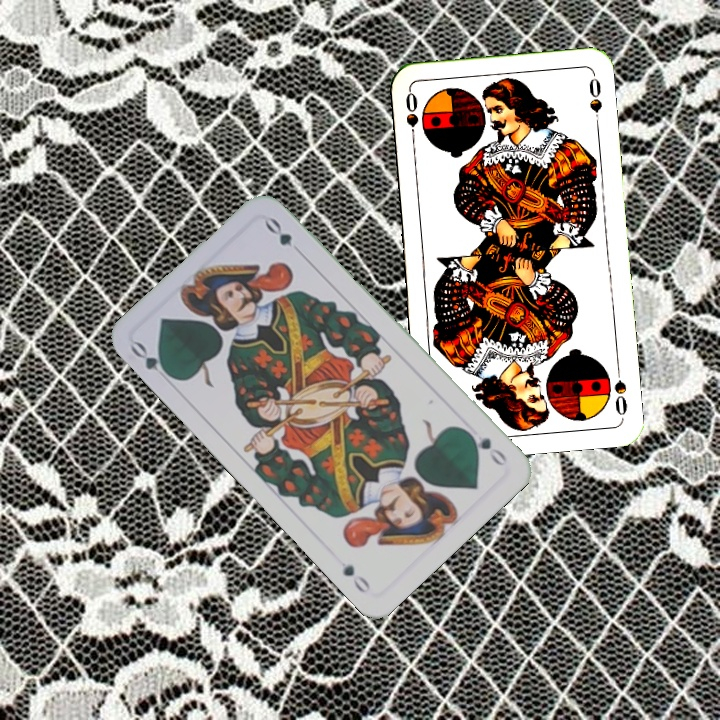GO: (126, 337, 177, 385), (461, 426, 510, 469)
SO: (401, 88, 421, 147), (610, 361, 630, 420)
